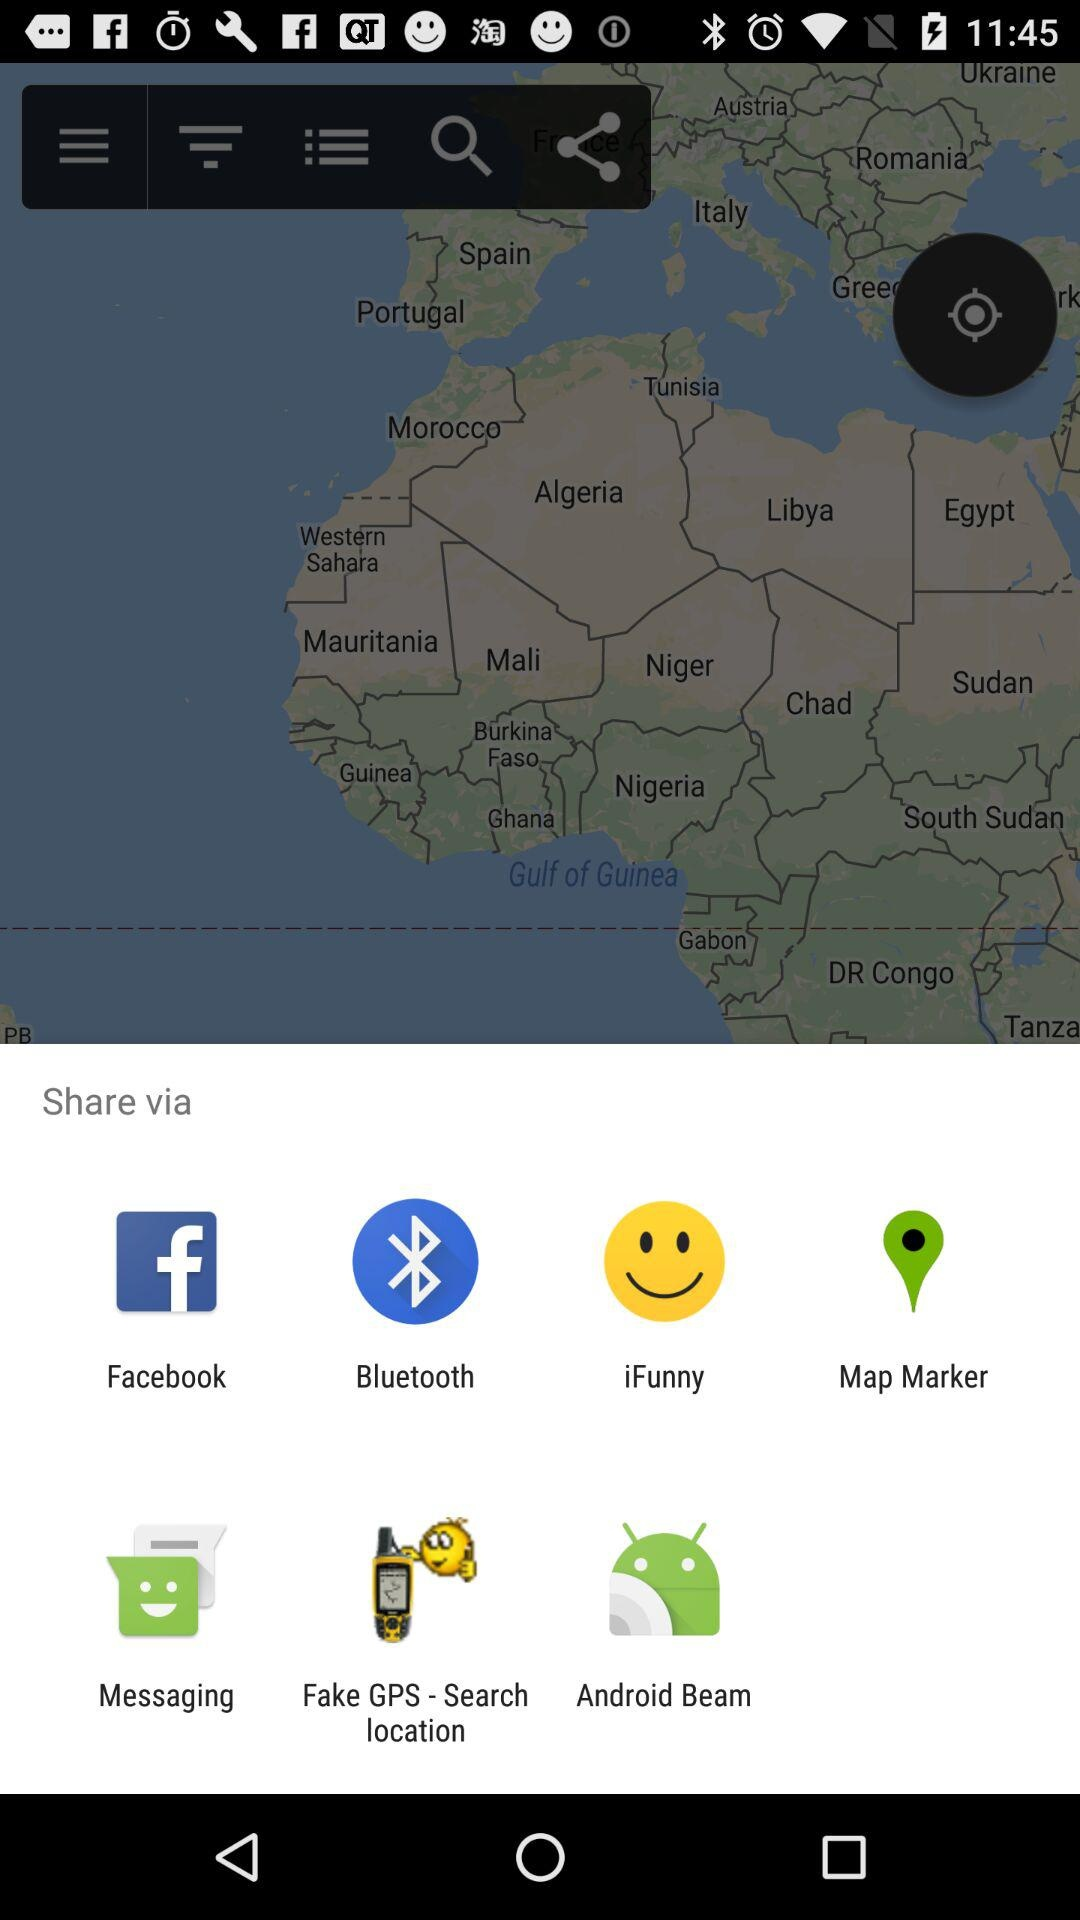ImageView: (603, 1197, 728, 1324)
TextView: (42, 1044, 1075, 1156), (624, 1354, 705, 1433)
